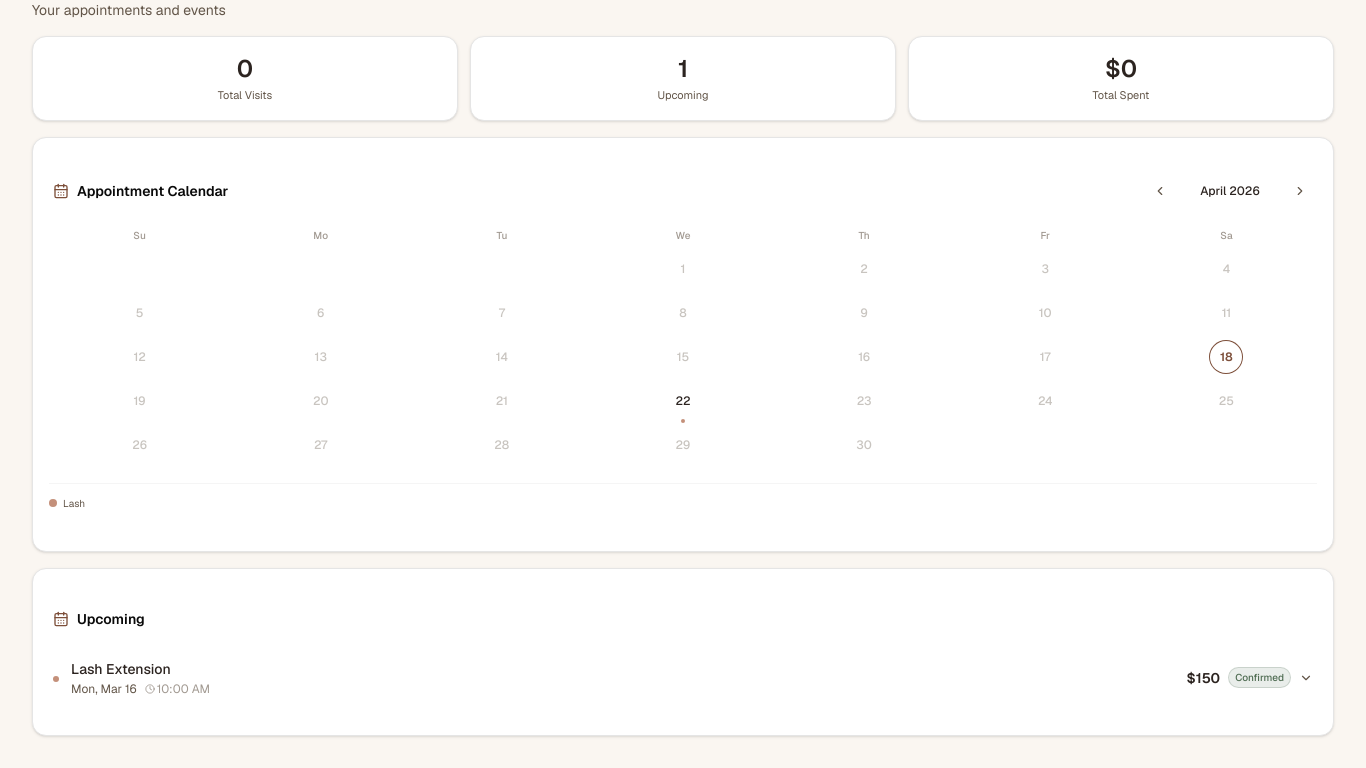
ClientBookingsPage › cancel action › shows deposit warning when booking has deposit paid
(page scrolled)
Step 1. Click the button "Lash Extension" → (121, 668), box top-left (33, 644), bottom-right (1333, 710)
(page scrolled)
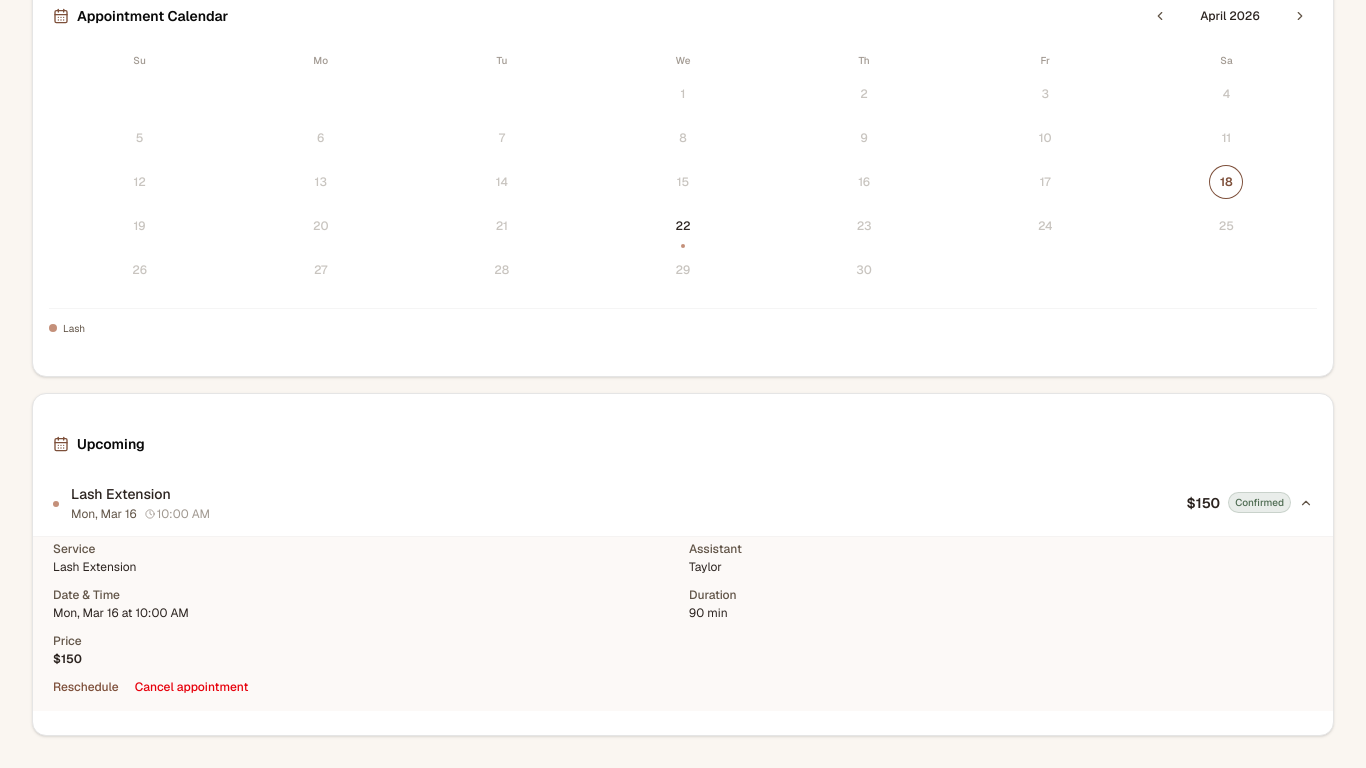
Step 2. Click the button "Cancel appointment" → (192, 686), box top-left (135, 678), bottom-right (248, 694)
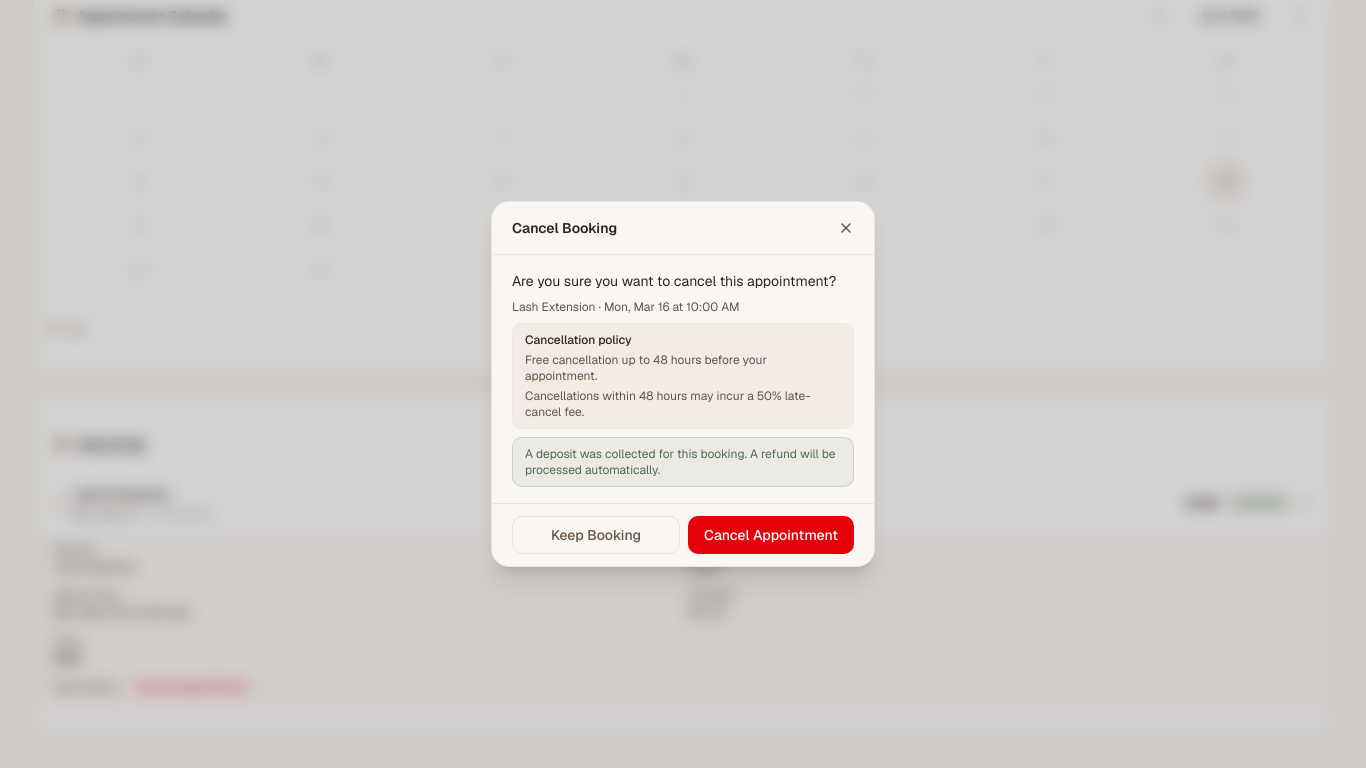
Check: the text "deposit was collected" is shown, box top-left (525, 446), bottom-right (836, 478)
